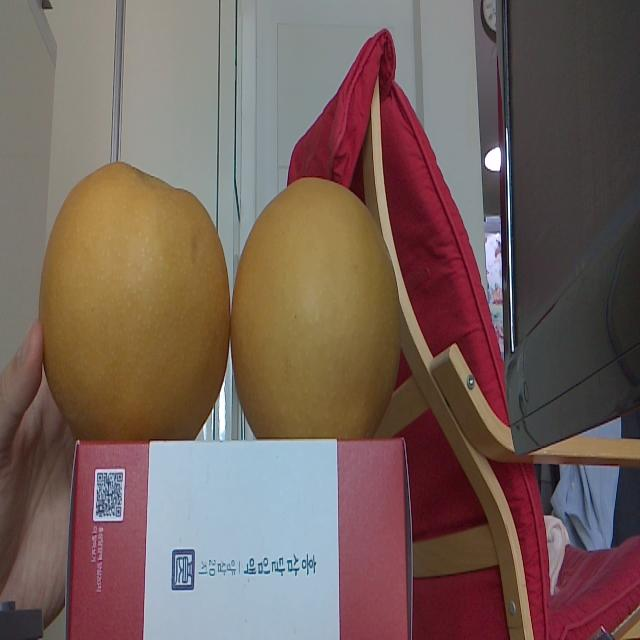pear: (41, 160, 230, 442), (230, 177, 400, 443)
